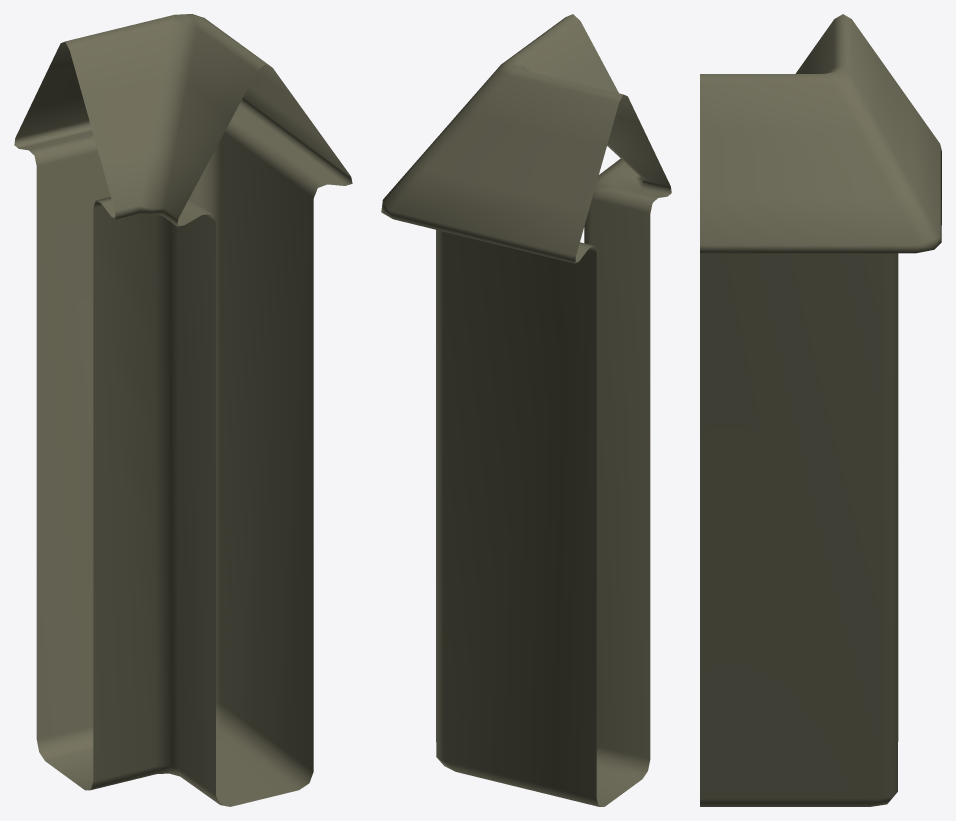
The model's file is FenceCorner_v02.glb.
3 renders of one model, left to right at view 1: azimuth 30°, elevation 25°; view 2: azimuth 150°, elevation 25°; view 3: azimuth 270°, elevation 25°, orthographic. The views are drawn at different scales.
Visible parts, largest first — view 1: SM_FenceCorner; view 2: SM_FenceCorner; view 3: SM_FenceCorner.
Part boxes in pixels (left/top/right/bottom): SM_FenceCorner: left=14, top=14, right=352, bottom=806; SM_FenceCorner: left=381, top=14, right=671, bottom=806; SM_FenceCorner: left=700, top=14, right=941, bottom=806.
Size of the model in its own units: 0.7375 by 2.41 by 0.7392.
